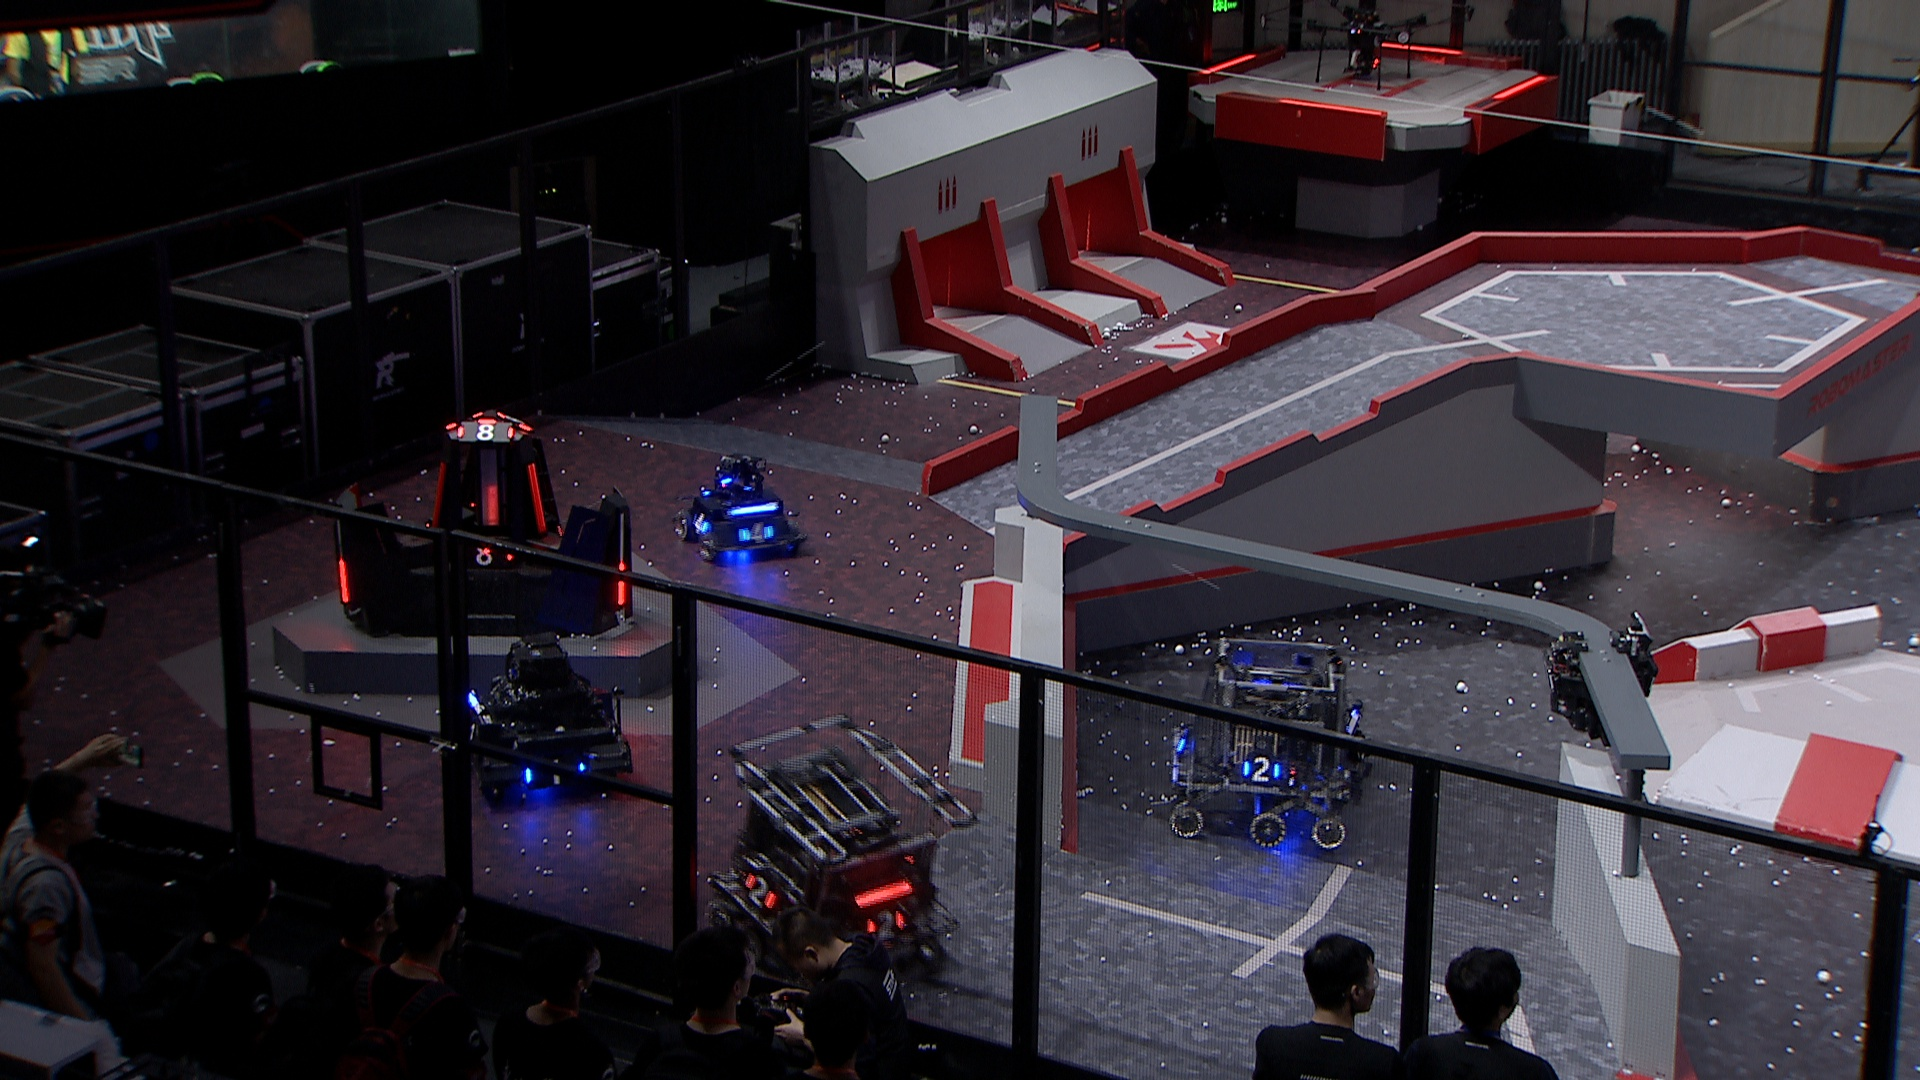armor: (520, 757, 593, 787), (429, 462, 456, 531), (458, 534, 516, 567), (455, 418, 520, 446), (740, 869, 781, 913), (526, 458, 550, 531), (862, 910, 909, 943), (1240, 756, 1282, 789), (737, 520, 779, 547), (479, 483, 502, 527), (334, 556, 353, 609), (612, 562, 628, 608), (463, 717, 484, 750), (688, 509, 713, 535)
base: (327, 409, 629, 637)
car: (707, 704, 975, 984), (1158, 633, 1353, 849), (462, 628, 644, 807), (667, 442, 811, 567)
watcher: (1544, 607, 1662, 746)
